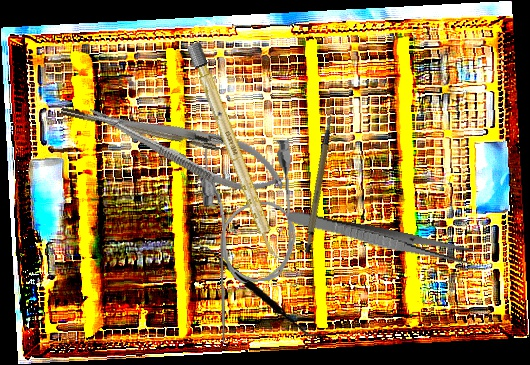Cannula: (197, 131, 302, 286)
Chopper: (60, 98, 244, 159)
Dressing Forceps: (286, 208, 476, 267)
Needle Holder: (80, 88, 293, 206)
Scalpel Handle: (186, 40, 283, 264), (286, 113, 355, 255), (219, 232, 226, 344)
Spatula Surgical: (185, 242, 332, 339)
